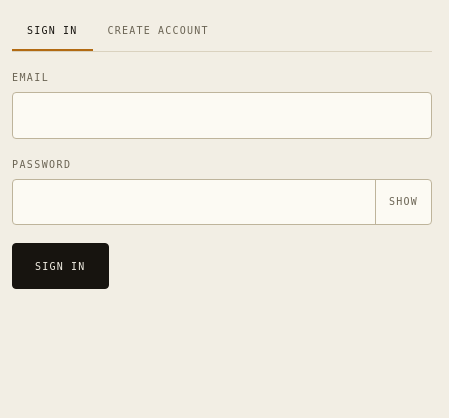
Test: AccountPanel when signed out › switches to the sign-up form on request
Click the tab "CREATE ACCOUNT": (158, 32) [92,12,224,51]
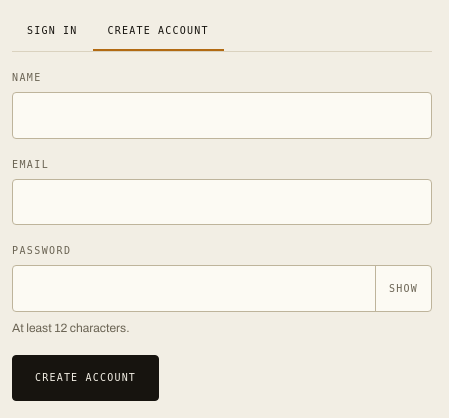
Check: the field labelled "NAME" is shown, box [12,92,432,138]
Check: the button "CREATE ACCOUNT" is shown, box [12,354,159,400]
